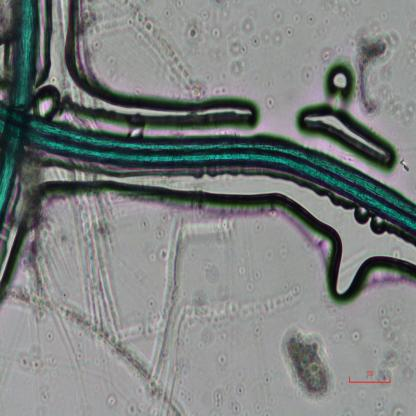Air bubble: (13, 172, 416, 316), (35, 0, 262, 131), (302, 96, 398, 174), (325, 62, 356, 99)
Background material: (23, 220, 186, 414), (84, 0, 207, 100), (230, 5, 315, 76), (183, 266, 246, 339), (282, 320, 336, 403), (373, 297, 415, 390), (355, 23, 393, 114), (211, 350, 245, 414), (134, 370, 171, 414), (13, 338, 58, 374), (323, 314, 366, 345), (387, 90, 416, 134), (190, 17, 222, 48), (240, 253, 261, 294), (312, 43, 346, 66), (148, 248, 174, 268), (99, 386, 122, 407), (206, 78, 230, 95), (253, 220, 271, 239), (256, 370, 274, 388), (274, 243, 291, 261), (267, 96, 279, 116), (390, 401, 406, 415), (397, 152, 409, 170), (371, 397, 388, 409), (252, 399, 264, 413)
Microfibre: (0, 97, 416, 234), (0, 1, 36, 225)
